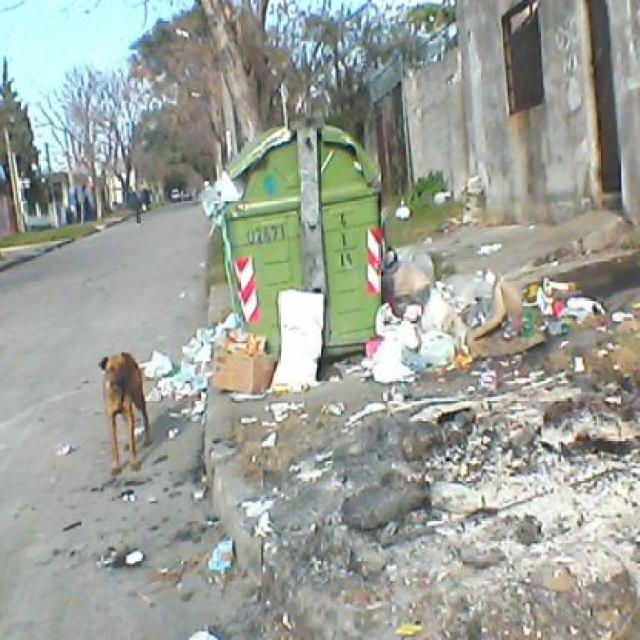garbage: (354, 245, 640, 605), (142, 280, 388, 450), (197, 160, 261, 245)
